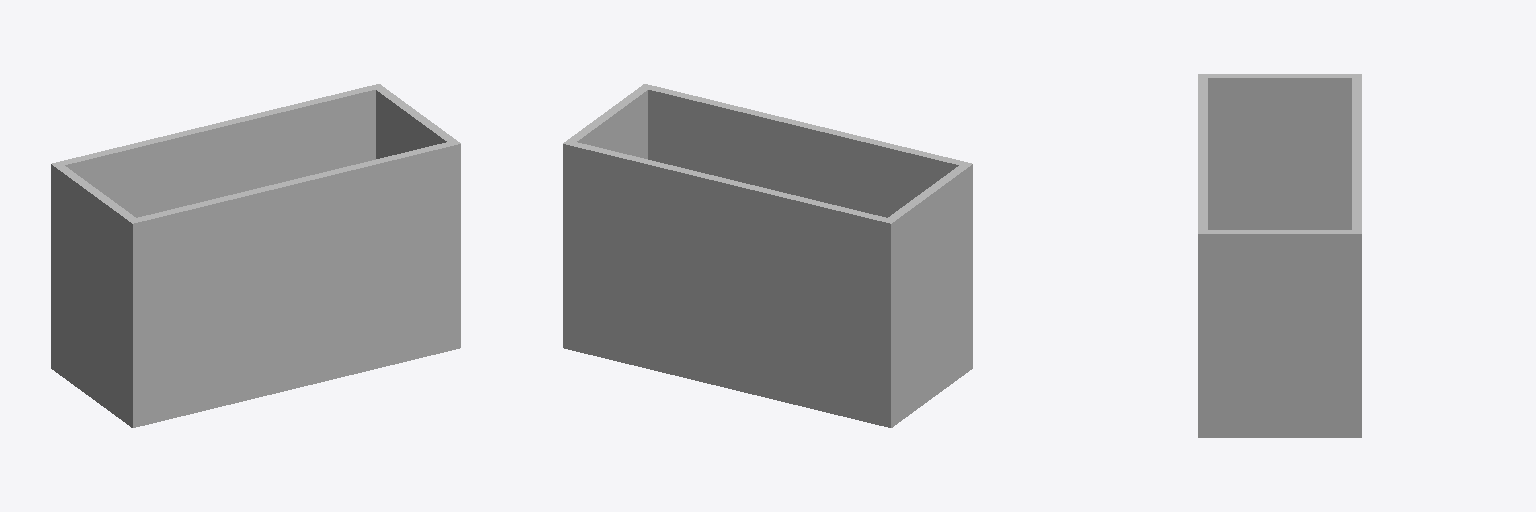
Rendered from PACKAGE_BOX.obj.
The picture shows the model from 3 angles: view 1: azimuth 30°, elevation 25°; view 2: azimuth 150°, elevation 25°; view 3: azimuth 270°, elevation 25°; orthographic projection.
Visible parts, largest first — view 1: Body2, Body3, Body6, Body7; view 2: Body3, Body2, Body6, Body7; view 3: Body7, Body6, Body2, Body3.
Boxes of the visible parts, x1,y1,x2,y2 form: Body2: [137, 142, 451, 425]; Body3: [60, 86, 375, 217]; Body6: [51, 162, 141, 427]; Body7: [371, 84, 460, 349]; Body3: [572, 142, 886, 425]; Body2: [648, 86, 963, 217]; Body6: [882, 162, 972, 427]; Body7: [563, 84, 652, 349]; Body7: [1198, 230, 1361, 437]; Body6: [1198, 74, 1361, 229]; Body2: [1198, 78, 1207, 229]; Body3: [1352, 78, 1361, 229].
Bounding box in the file's own units: 37 × 22 × 16.